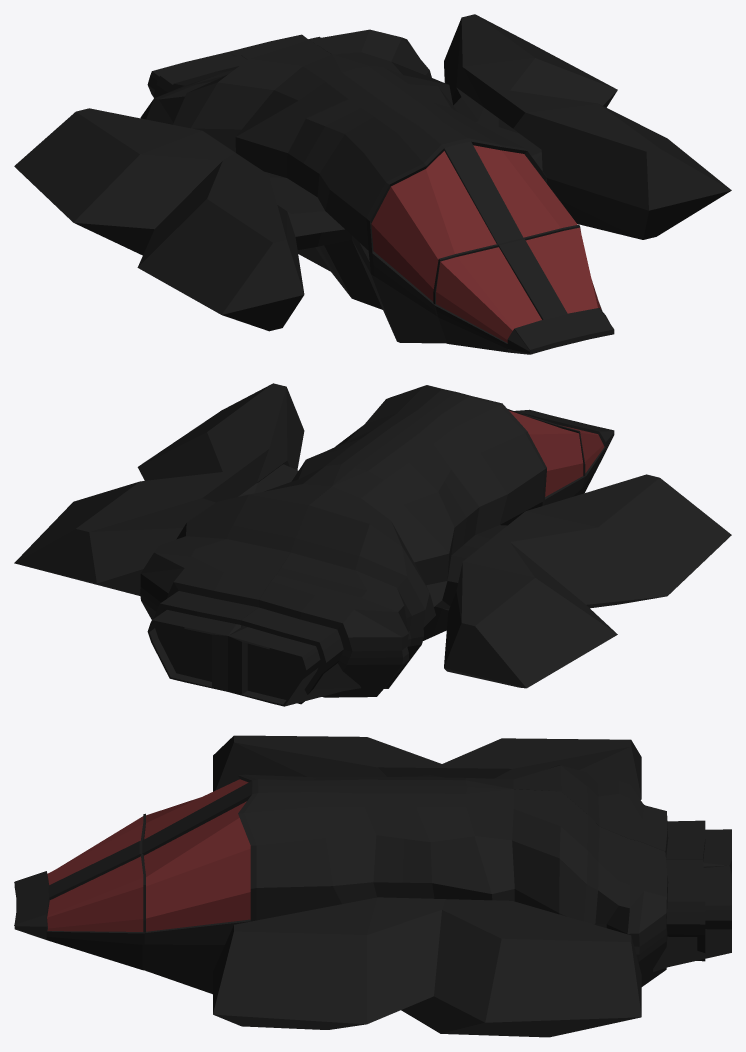
Rendered from Spaceship1.fbx.
3 renders of one model, top to bottom at view 1: azimuth 30°, elevation 25°; view 2: azimuth 150°, elevation 25°; view 3: azimuth 270°, elevation 25°, orthographic. The views are drawn at different scales.
Parts seen in each view (by area): view 1: Cube; view 2: Cube; view 3: Cube.
Boxes of the visible parts, left/top/right/bottom form: Cube: left=14, top=14, right=731, bottom=354; Cube: left=14, top=383, right=731, bottom=706; Cube: left=14, top=735, right=731, bottom=1037.
Bounding box in the file's own units: 1048 × 342 × 1151.
